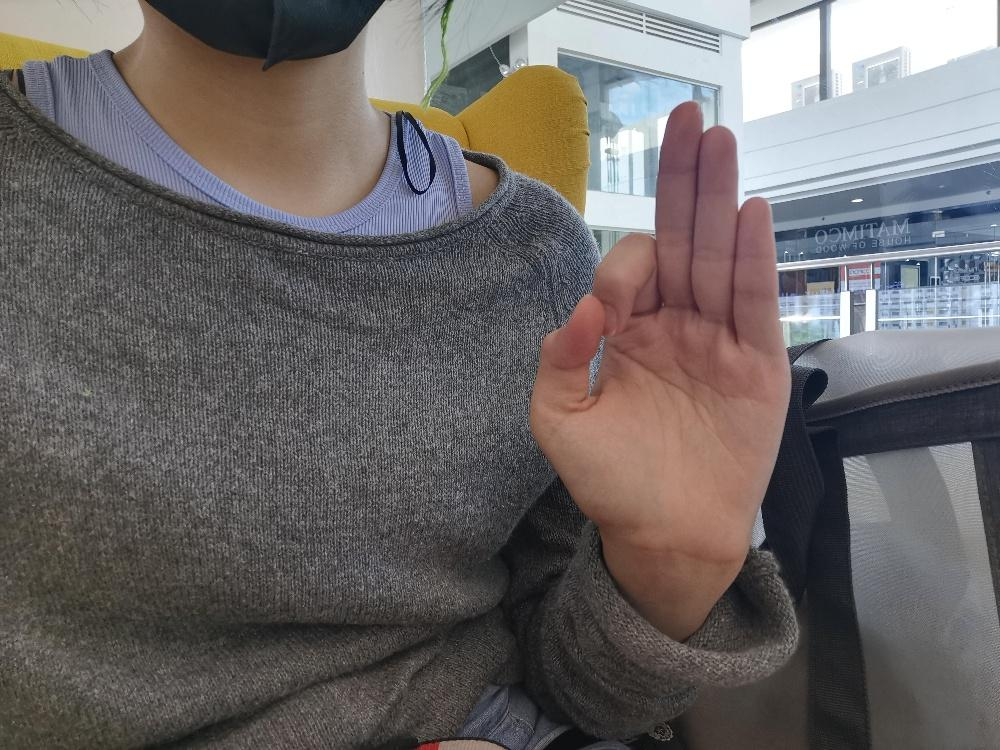f: (524, 97, 793, 567)
